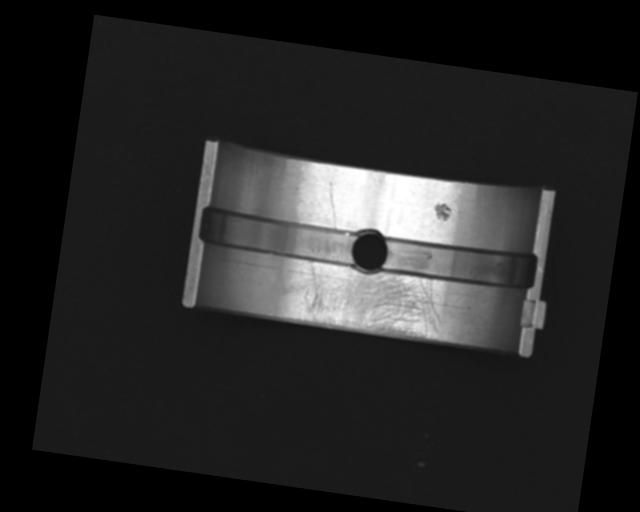bruise: (432, 201, 453, 223)
gap: (198, 207, 359, 266), (380, 234, 538, 292)
hole: (348, 227, 391, 275)
nick: (323, 181, 344, 229)
scratch: (283, 258, 447, 342)
